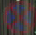No Stopping: (1, 0, 35, 33)
